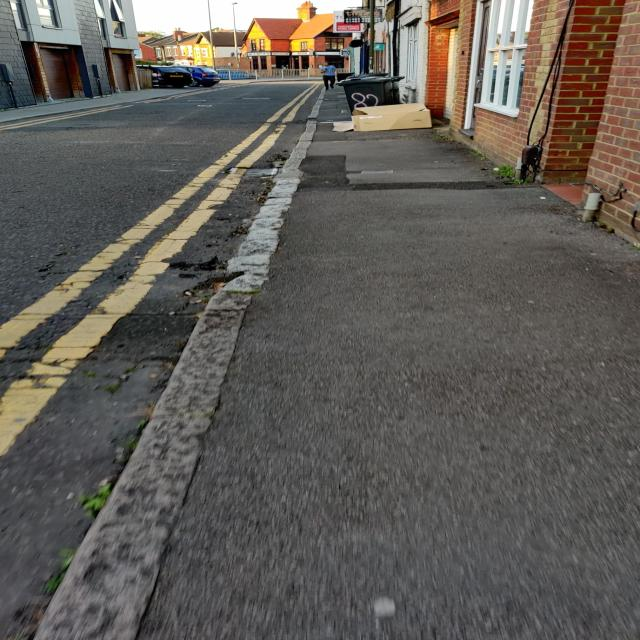litter: (342, 79, 399, 106)
